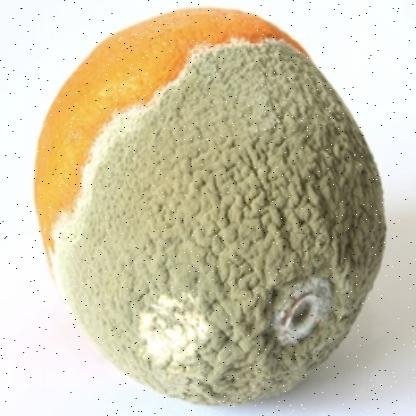rotten: (33, 5, 388, 404)
